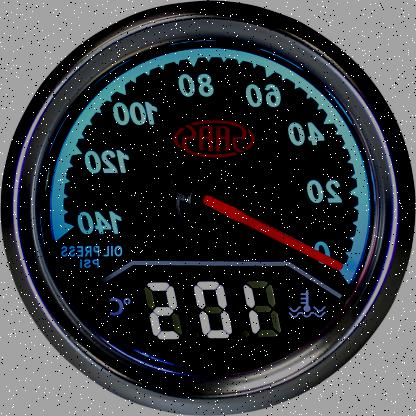needle: (201, 194, 344, 271)
